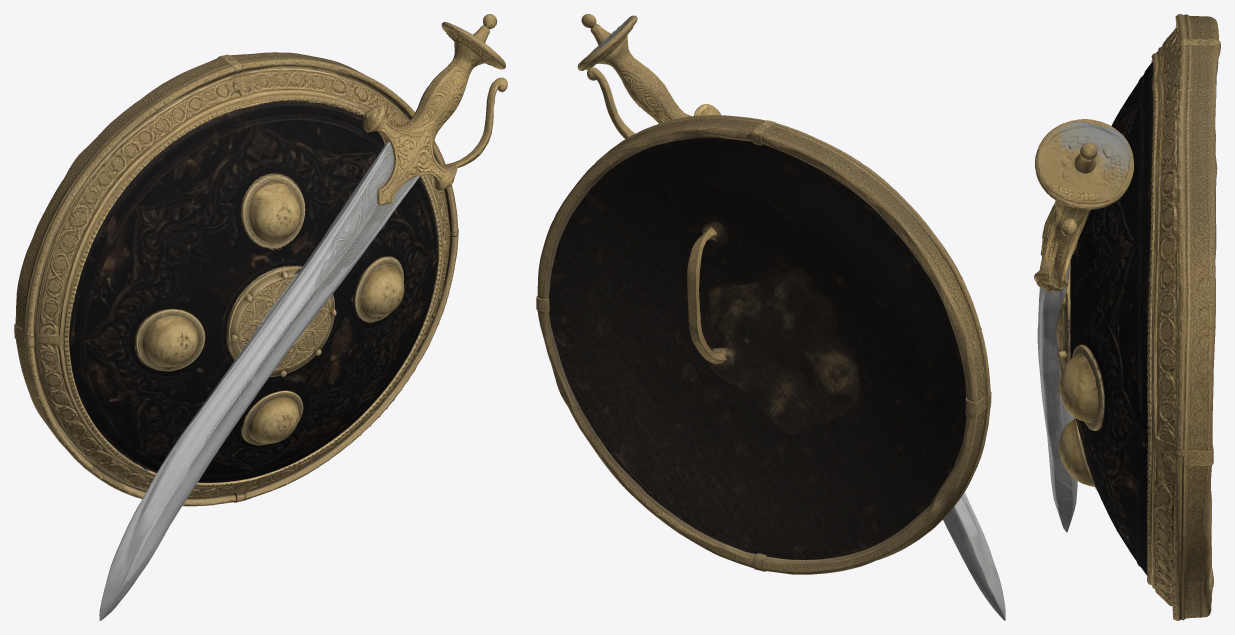
Rendered from sword.glb.
3 views of the same model, side by side, from view 1: azimuth 30°, elevation 25°; view 2: azimuth 150°, elevation 25°; view 3: azimuth 270°, elevation 25° (orthographic). The views are drawn at different scales.
Parts seen in each view (by area): view 1: Mesh_0; view 2: Mesh_0; view 3: Mesh_0.
Boxes of the visible parts, bbox=[...] form: Mesh_0: bbox=[14, 14, 507, 620]; Mesh_0: bbox=[536, 14, 1005, 620]; Mesh_0: bbox=[1034, 14, 1220, 620].
Bounding box in the file's own units: 1.73 × 1.9 × 0.5069.
1 material, 1 textured.
